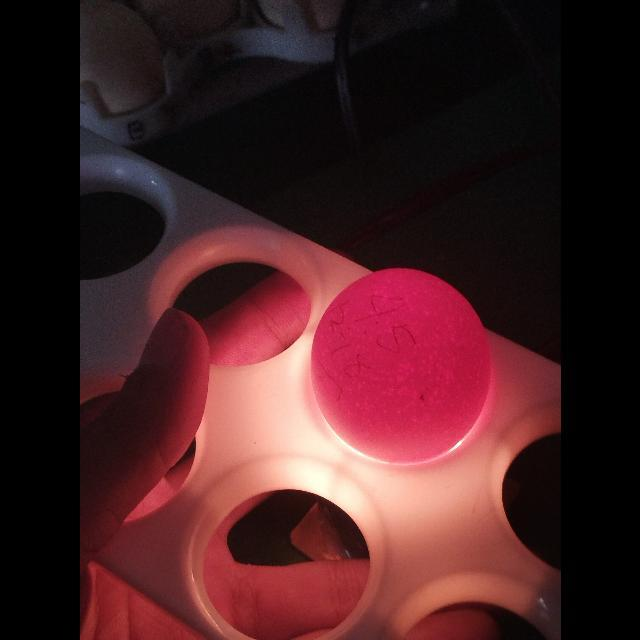Fertile: (316, 269, 492, 443)
